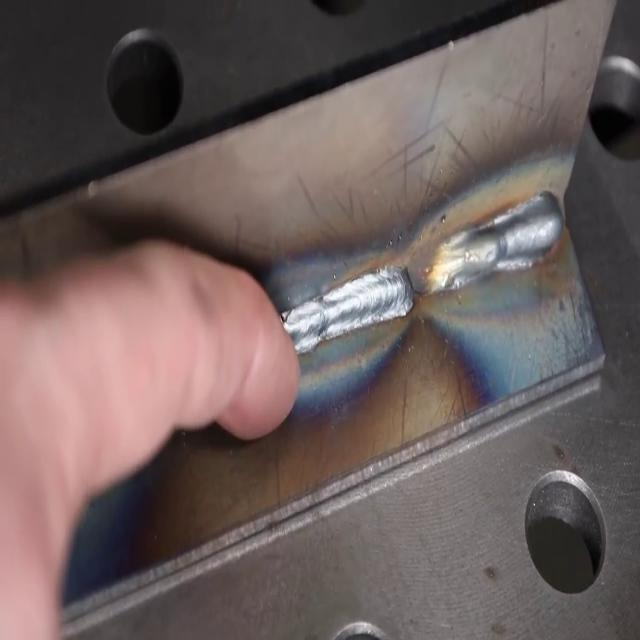Bad Weld: (300, 192, 564, 359)
